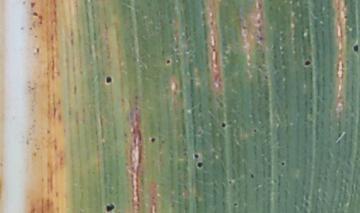tarspot: (105, 203, 115, 213), (352, 42, 360, 54), (302, 59, 312, 67), (104, 76, 113, 84), (248, 171, 256, 180), (30, 11, 40, 18), (164, 58, 172, 66), (29, 1, 36, 10), (196, 161, 203, 169), (219, 121, 226, 129), (192, 152, 199, 159), (279, 160, 286, 167), (150, 136, 156, 143), (232, 202, 239, 208), (35, 46, 40, 54), (263, 74, 269, 80), (252, 127, 257, 133)
